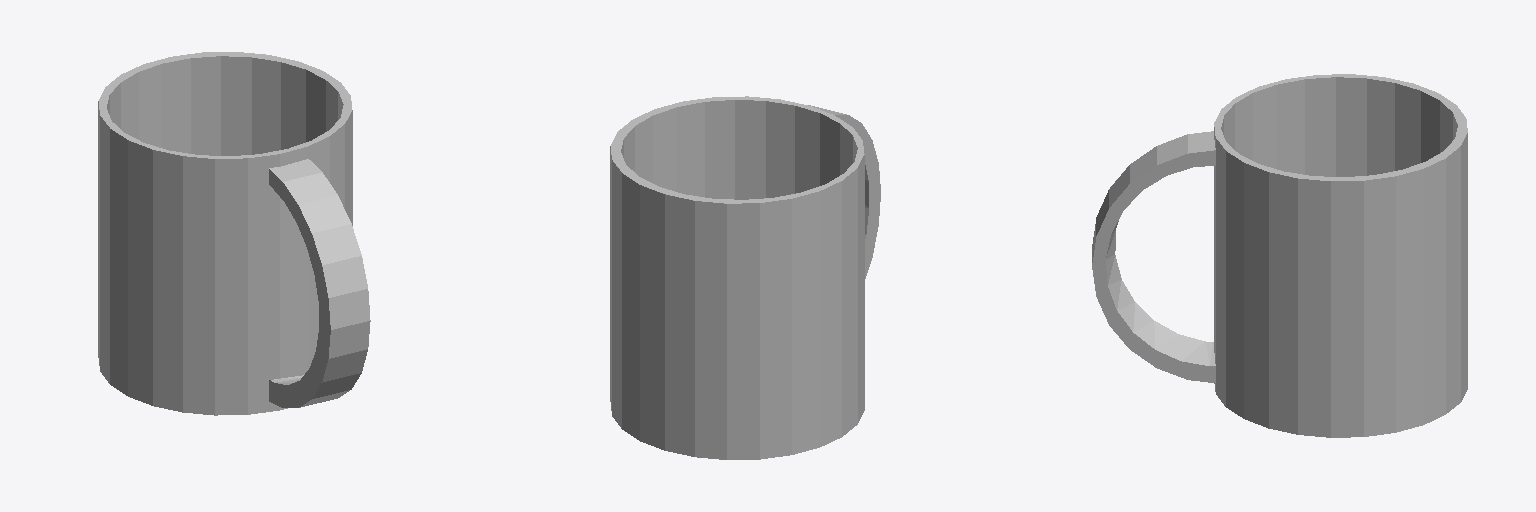
3 views of the same model, side by side, from view 1: azimuth 30°, elevation 25°; view 2: azimuth 150°, elevation 25°; view 3: azimuth 270°, elevation 25° (orthographic).
Parts seen in each view (by area): view 1: model_normalized.002; view 2: model_normalized.002; view 3: model_normalized.002.
Boxes of the visible parts, x1,y1,x2,y2 form: model_normalized.002: [98, 52, 370, 415]; model_normalized.002: [610, 96, 880, 459]; model_normalized.002: [1092, 74, 1467, 437].
Size of the model in its own units: 0.4751 by 0.5291 by 0.7031.